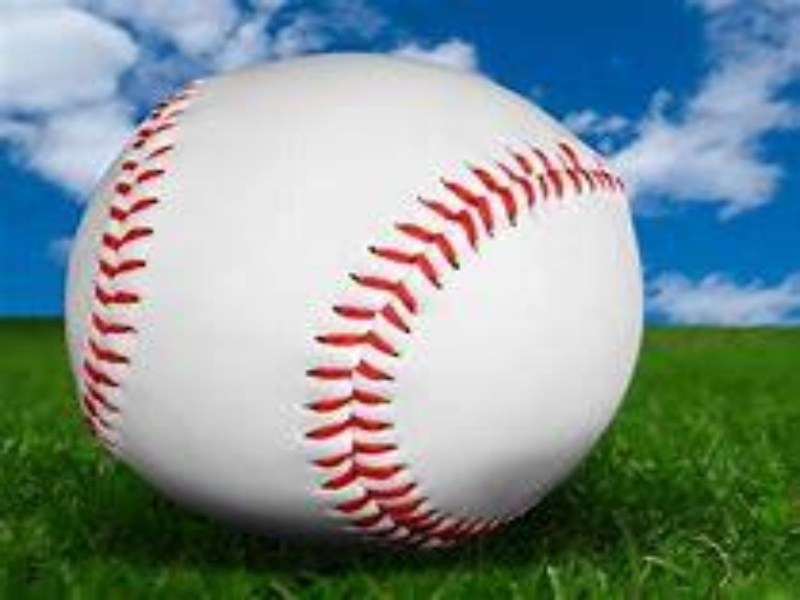baseball: (59, 52, 680, 547)
